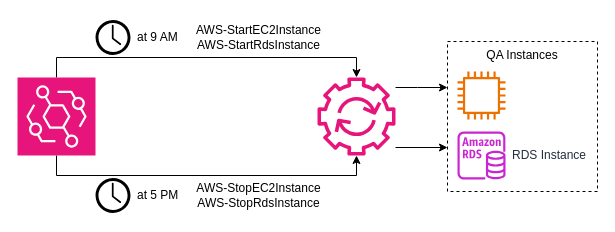
Some shapes in this 615 by 232 pixel diagram are drawn without their labels. The shapes that lost their labels are listed below. From the top down, each one's centre as x and y in pixels, then its label:
At pixel 481 95: "EC2 Instance".
At pixel 356 116: "SSM Automation".
